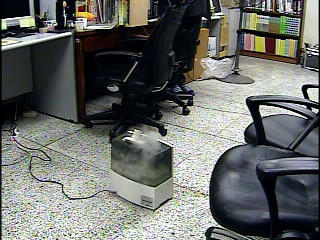smoke: (111, 125, 166, 184)
